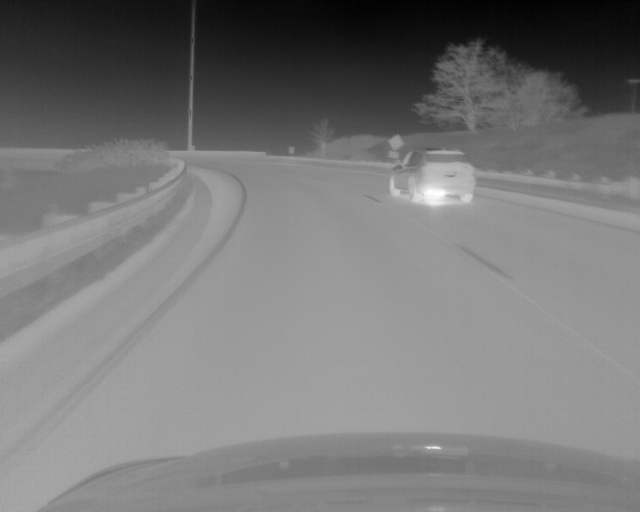car: (385, 146, 477, 204)
